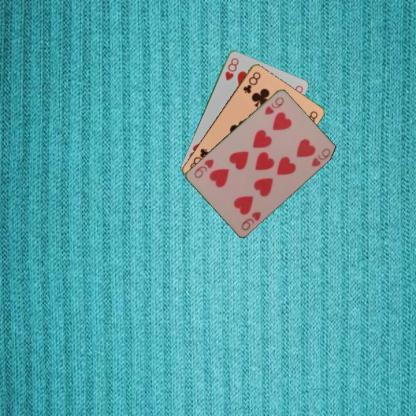8c: (240, 69, 262, 95)
8h: (222, 55, 240, 81)
9h: (239, 209, 262, 232), (262, 94, 285, 116)
